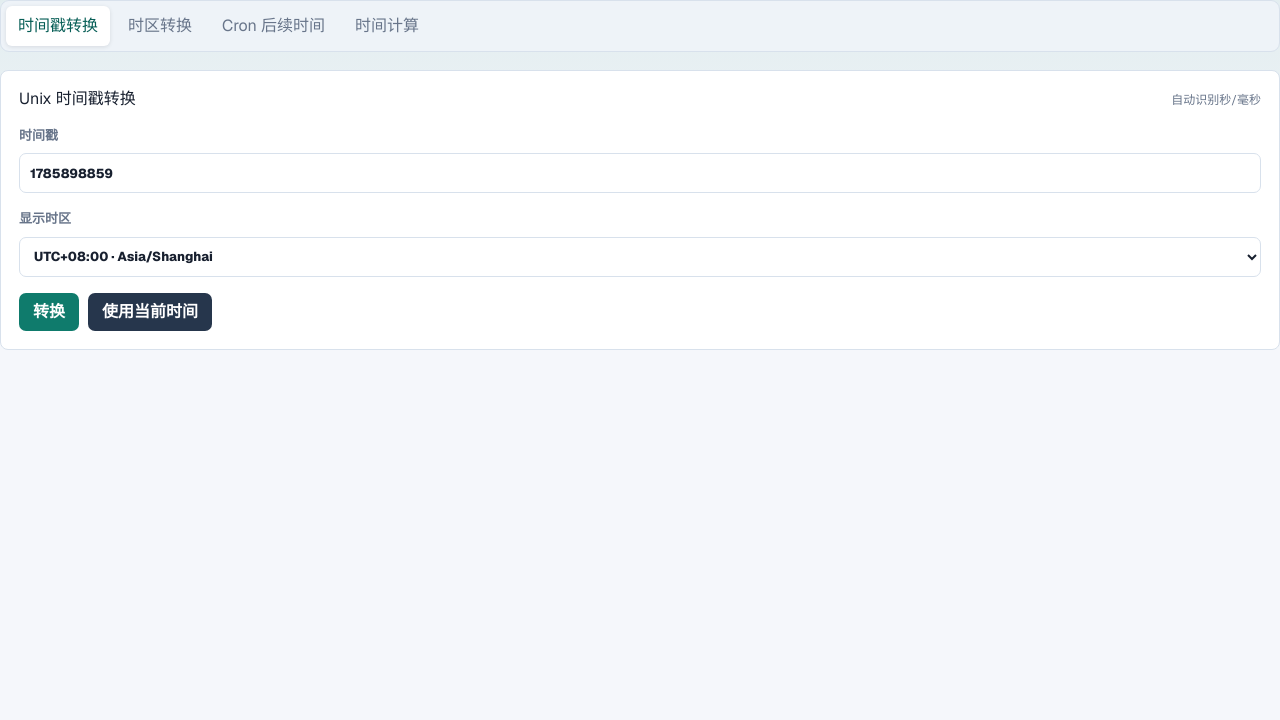
Test: workbench keyboard and theme interactions › updates the cron description from the current input
Click the tab "Cron 后续时间" at (273, 26), box [210, 6, 337, 46]
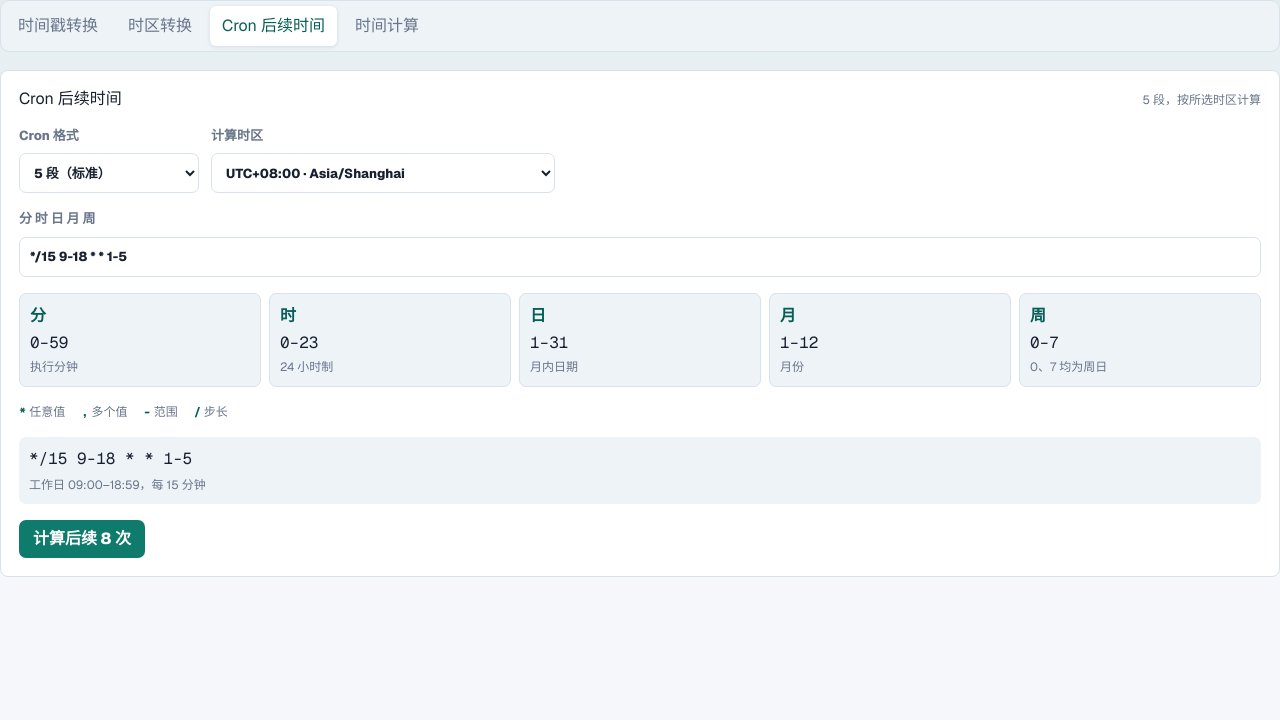
Replace the text in the field labelled "分 时 日 月 周" with "30 9 * * 1-5" at (640, 257), box [19, 237, 1261, 277]
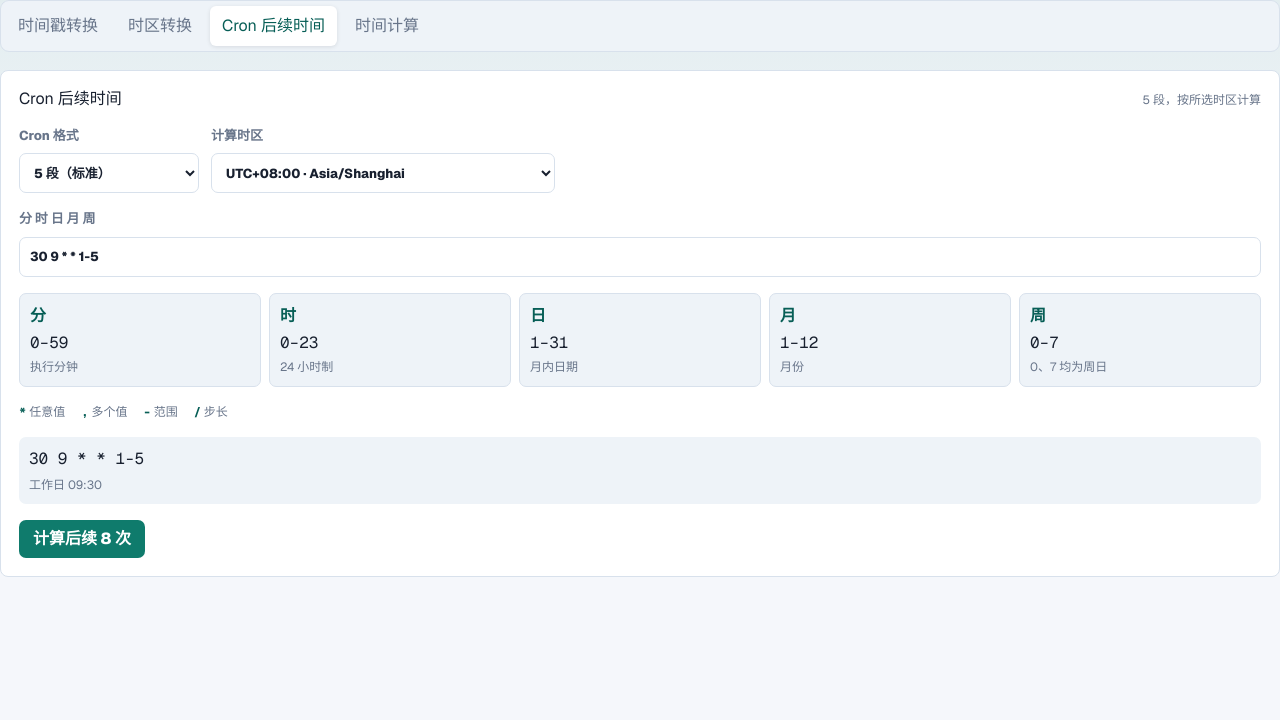
Result: the text "工作日 09:30" is shown at [29, 477, 102, 493]
Result: the text "工作日 09:00–18:59，每 15 分钟" is gone
